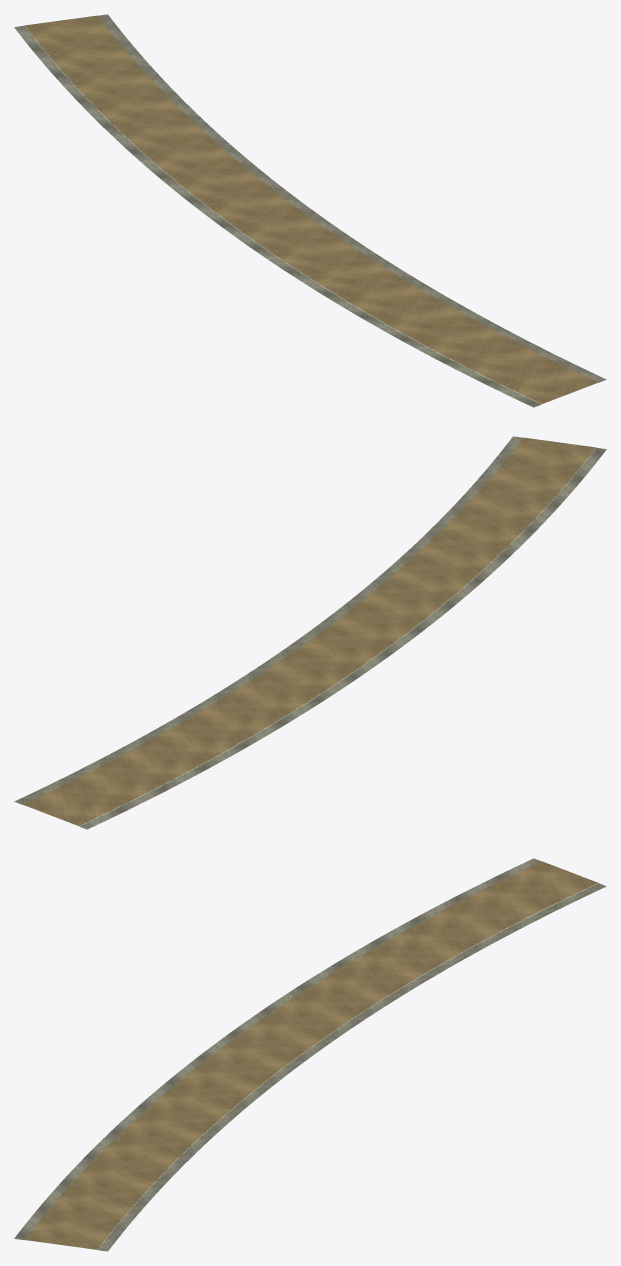
File: road_forest_curve_64m.glb
The picture shows the model from 3 angles, top to bottom: view 1: azimuth 30°, elevation 25°; view 2: azimuth 150°, elevation 25°; view 3: azimuth 330°, elevation 25°; orthographic projection.
Visible parts, largest first — view 1: road_surface, static_gravel; view 2: road_surface, static_gravel; view 3: road_surface, static_gravel.
Part boxes in pixels (x1,y1,x2,y2): road_surface: (25, 15, 598, 403); static_gravel: (14, 14, 606, 407); road_surface: (22, 437, 595, 825); static_gravel: (14, 436, 606, 829); road_surface: (25, 861, 598, 1249); static_gravel: (14, 858, 606, 1251).
Size of the model in its own units: 9.62 by 0.018 by 65.3.
2 materials, 2 textured.
